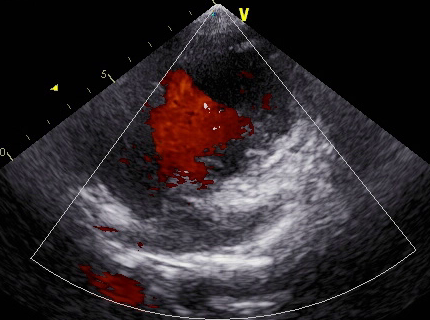AR: (152, 118, 239, 169)
